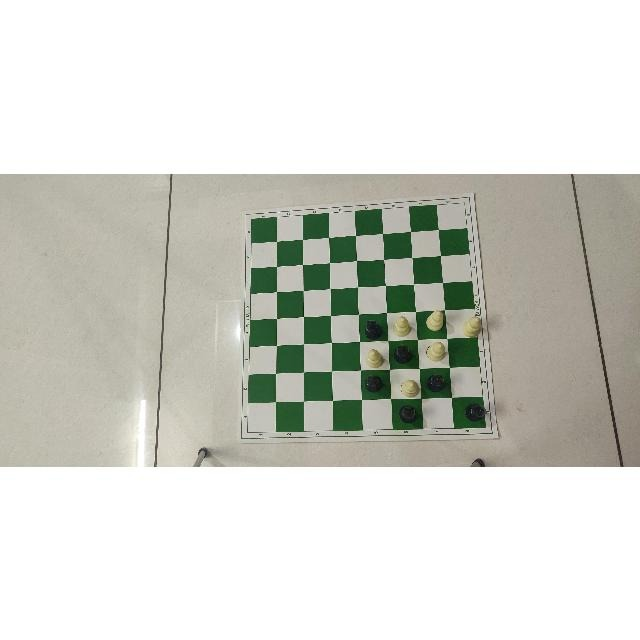black-bishop: (392, 343, 414, 363), (464, 402, 486, 422), (426, 373, 446, 392), (398, 404, 418, 423), (364, 318, 382, 339), (364, 374, 383, 391)
white-bishop: (462, 315, 482, 337), (425, 307, 444, 330), (426, 340, 446, 361), (364, 347, 384, 367), (393, 316, 411, 336), (400, 379, 419, 397)
